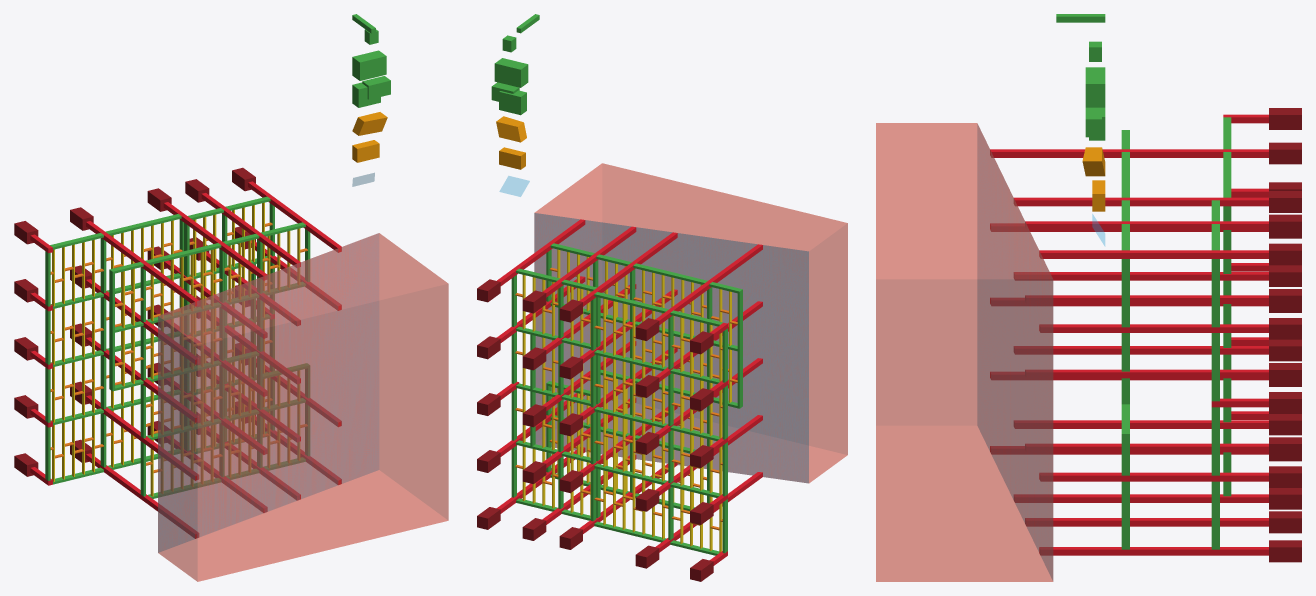
File: tinker.obj
The picture shows the model from 3 angles, left to right: view 1: azimuth 30°, elevation 25°; view 2: azimuth 150°, elevation 25°; view 3: azimuth 270°, elevation 25°; orthographic projection. The views are drawn at different scales.
Parts seen in each view (by area): view 1: obj_425, obj_424, obj_1, obj_20, obj_15, obj_2, obj_420, obj_3, obj_421, obj_4, obj_11, obj_6 (+11 smaller); view 2: obj_425, obj_424, obj_1, obj_420, obj_2, obj_421, obj_3, obj_4, obj_20, obj_15, obj_419, obj_7 (+11 smaller); view 3: obj_425, obj_424, obj_2, obj_13, obj_1, obj_18, obj_17, obj_7, obj_12, obj_16, obj_21, obj_3 (+36 smaller).
Boxes of the visible parts, <box> form: obj_425: <box>158,233,448,581</box>; obj_424: <box>158,233,378,552</box>; obj_1: <box>86,221,198,306</box>; obj_20: <box>86,453,198,538</box>; obj_15: <box>86,395,198,480</box>; obj_2: <box>163,202,267,280</box>; obj_420: <box>352,76,390,107</box>; obj_3: <box>201,193,300,267</box>; obj_421: <box>352,50,386,80</box>; obj_4: <box>248,181,341,252</box>; obj_11: <box>86,337,198,422</box>; obj_6: <box>86,279,198,364</box>; obj_425: <box>534,163,847,483</box>; obj_424: <box>534,213,808,482</box>; obj_1: <box>655,244,762,324</box>; obj_420: <box>491,82,526,115</box>; obj_2: <box>579,232,677,306</box>; obj_421: <box>494,58,528,87</box>; obj_3: <box>542,226,636,297</box>; obj_4: <box>497,219,585,285</box>; obj_20: <box>655,472,762,552</box>; obj_15: <box>655,415,762,495</box>; obj_419: <box>496,116,526,142</box>; obj_7: <box>579,289,677,363</box>; obj_425: <box>876,123,1053,581</box>; obj_424: <box>977,124,1052,579</box>; obj_2: <box>1014,197,1268,206</box>; obj_13: <box>1025,369,1268,378</box>; obj_1: <box>990,149,1268,157</box>; obj_18: <box>1039,472,1268,481</box>; obj_17: <box>1025,443,1268,452</box>; obj_7: <box>1014,272,1268,280</box>; obj_12: <box>1014,346,1268,354</box>; obj_16: <box>1014,420,1268,428</box>; obj_21: <box>1014,494,1268,502</box>; obj_3: <box>1025,221,1268,229</box>.
Bounding box in the file's own units: 132 × 192 × 130.
